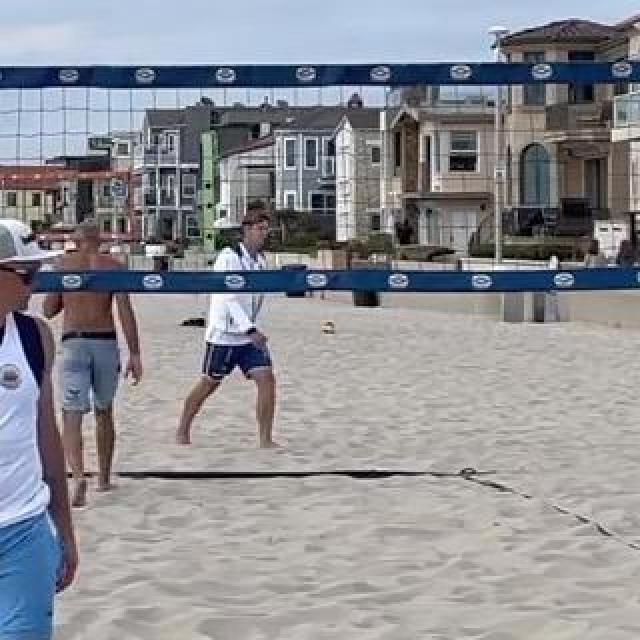volleyball: (320, 319, 336, 335)
